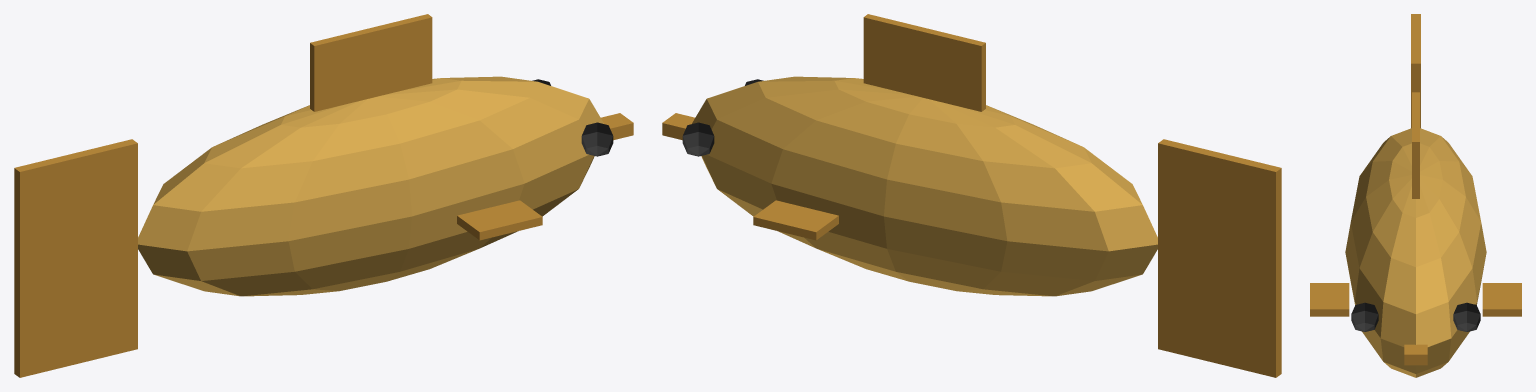
File: goldfish.glb
The picture shows the model from 3 angles, left to right: view 1: azimuth 30°, elevation 25°; view 2: azimuth 150°, elevation 25°; view 3: azimuth 270°, elevation 25°; orthographic projection. The views are drawn at different scales.
Visible parts, largest first — view 1: goldfish; view 2: goldfish; view 3: goldfish.
Boxes of the visible parts, <box> form: goldfish: <box>14,14,633,377</box>; goldfish: <box>662,14,1281,377</box>; goldfish: <box>1310,14,1521,377</box>.
Bounding box in the file's own units: 15 × 6.1 × 5.23.
